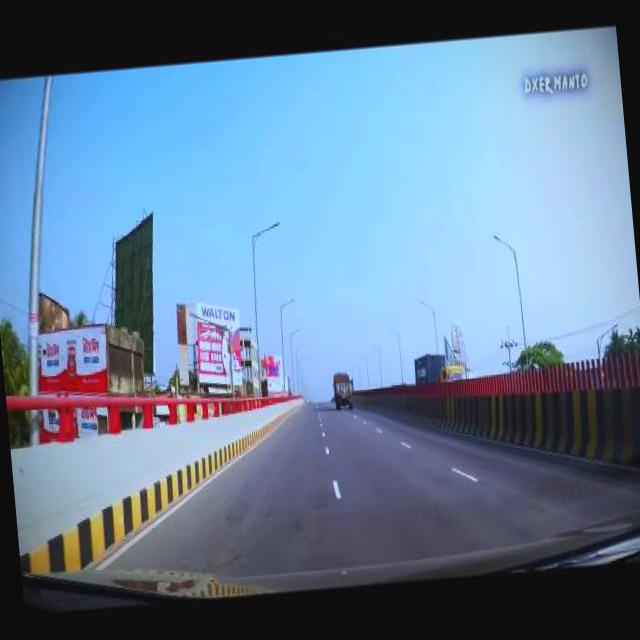truck: (412, 347, 466, 381), (329, 367, 354, 407)
